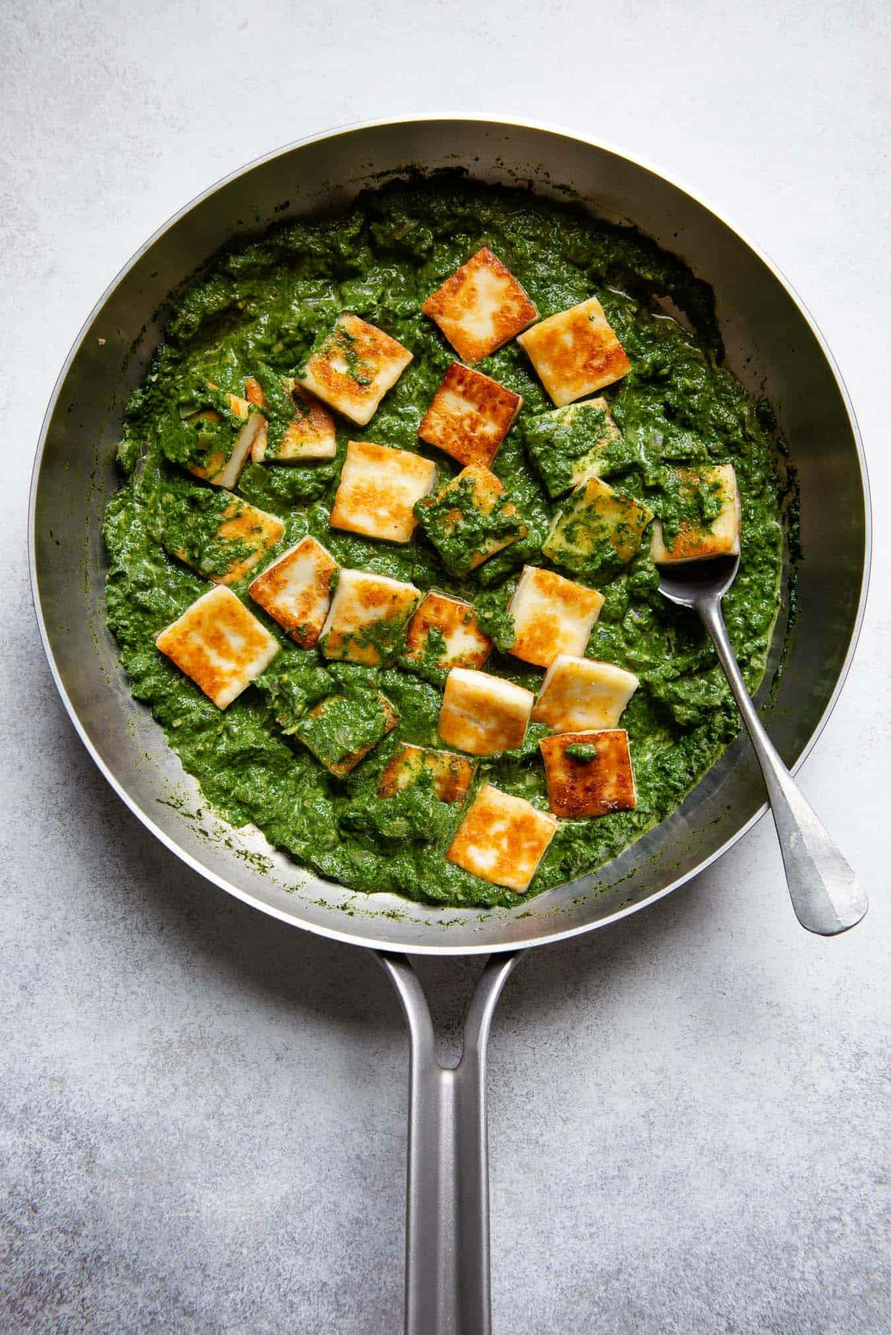PalakPaneer: (103, 194, 798, 897)
